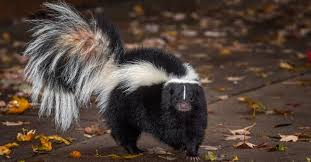skunk: (15, 0, 207, 161)
